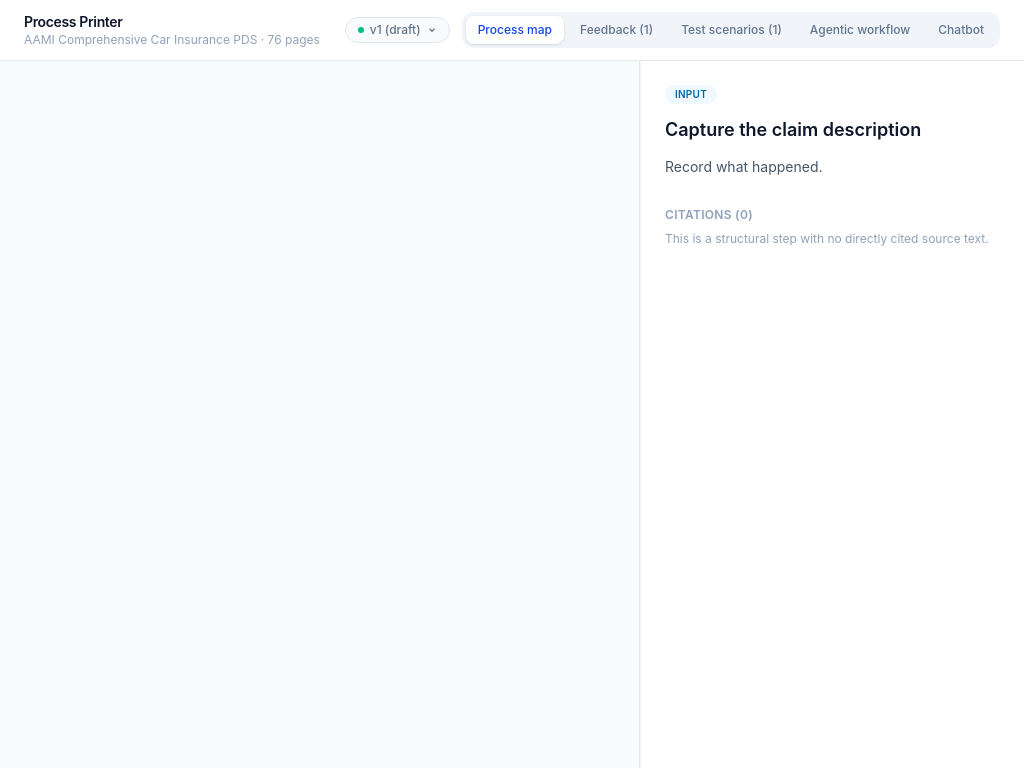
App › switching to the chat tab renders the chat panel
Click the button with test id "tab-chat" at (961, 30), box x1=926 y1=16 x2=996 y2=44
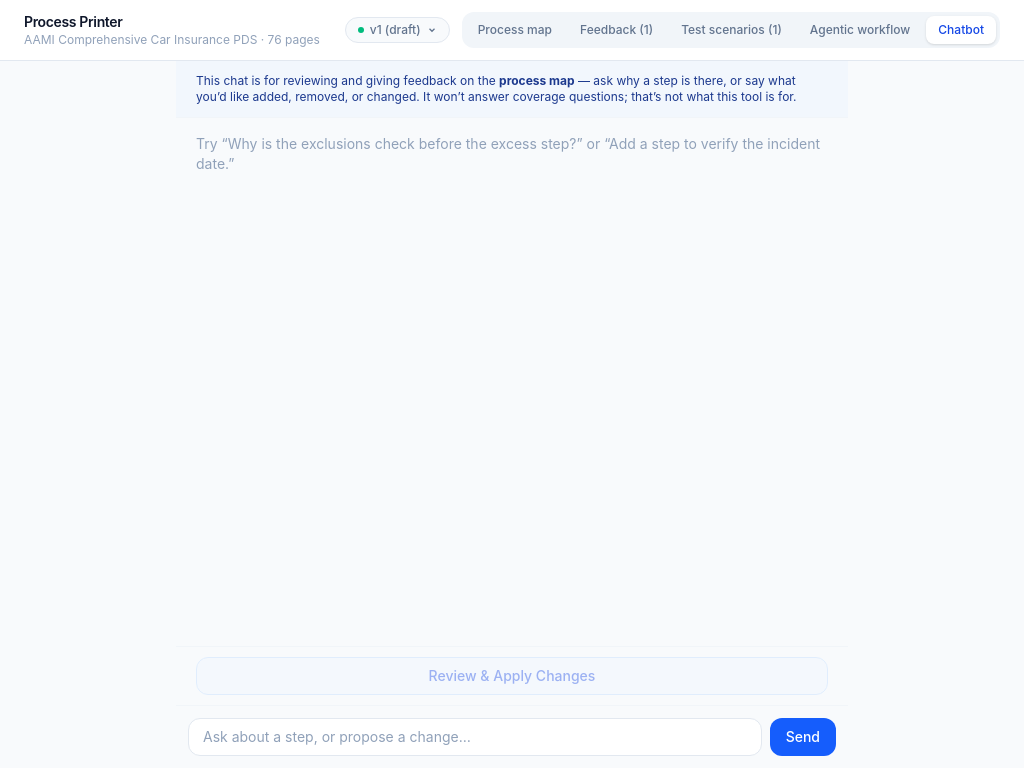
Result: the element with test id "chat-panel" is shown
